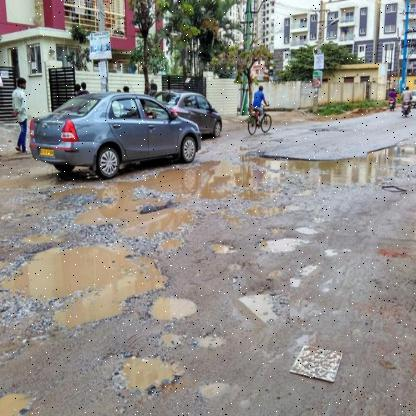pothole_water: (96, 334, 193, 402), (233, 270, 291, 329)
pothole_water_m: (16, 230, 168, 328)
